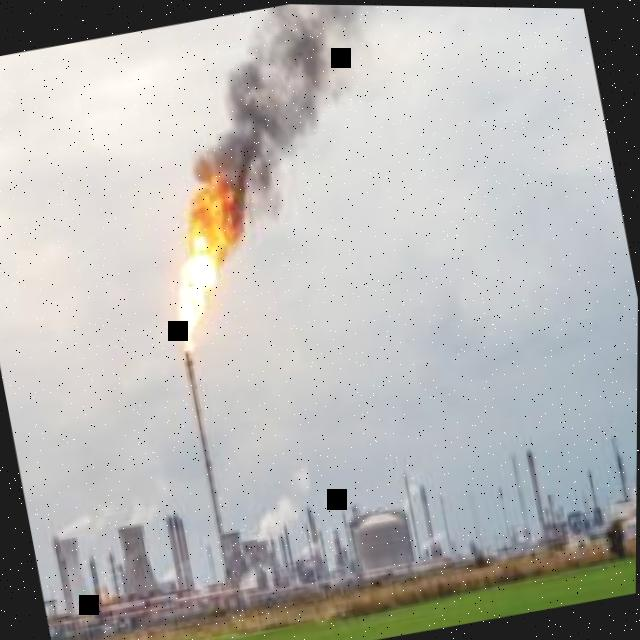fire: (180, 159, 243, 353)
smoke: (190, 3, 381, 234)
